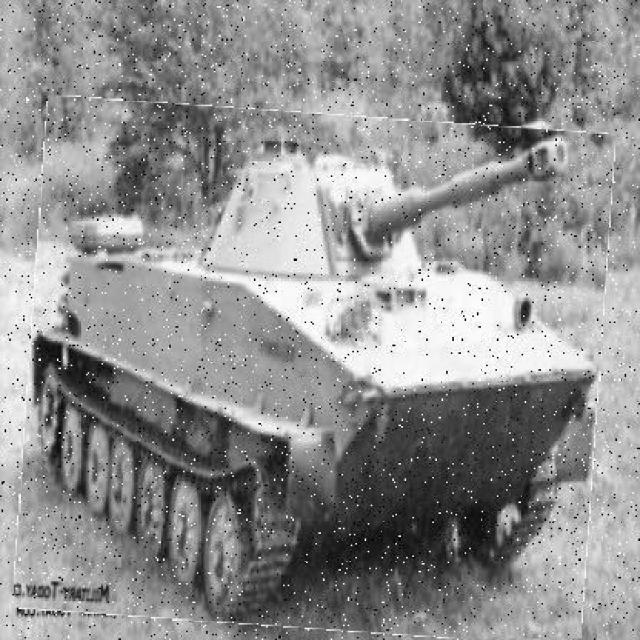Tank: (21, 106, 607, 638)
